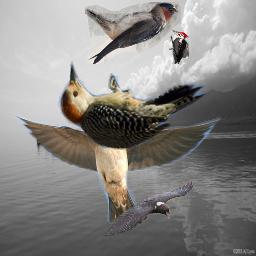Crow: (101, 180, 194, 238)
Swallow: (9, 106, 221, 224), (85, 2, 181, 64)
Woodpecker: (48, 58, 214, 152), (169, 30, 189, 64)
